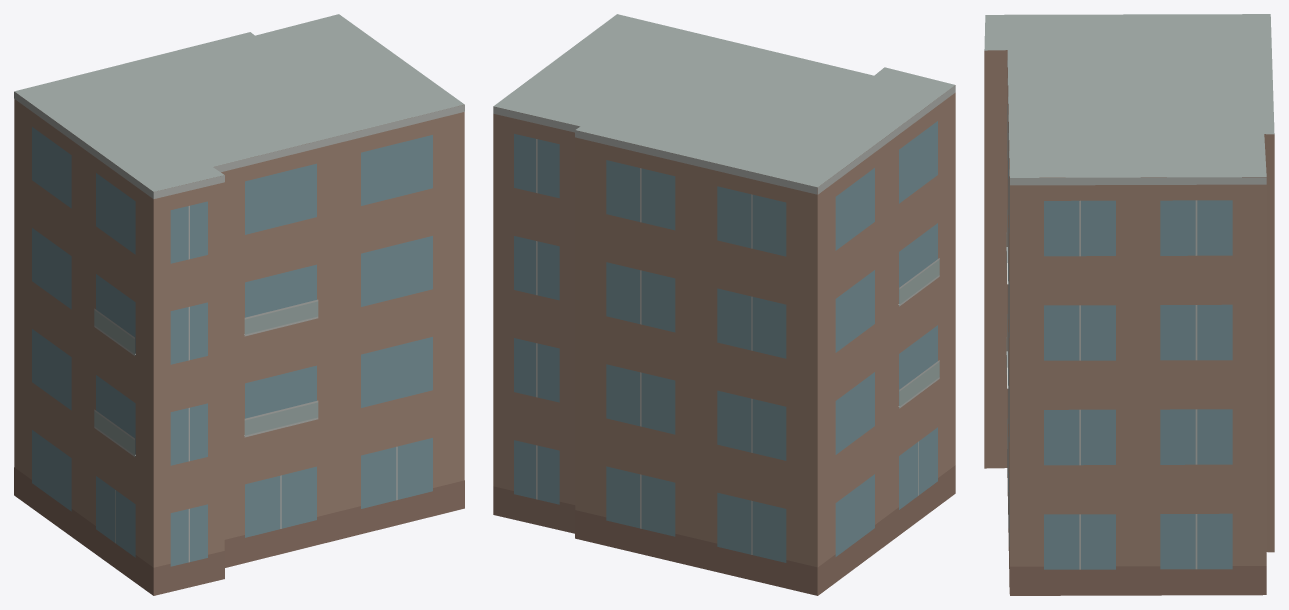
The model's file is survey-upis-32512228.glb.
3 renders of one model, left to right at view 1: azimuth 30°, elevation 25°; view 2: azimuth 150°, elevation 25°; view 3: azimuth 270°, elevation 25°, orthographic. The views are drawn at different scales.
Parts seen in each view (by area): view 1: survey-upis-32512228.tmp; view 2: survey-upis-32512228.tmp; view 3: survey-upis-32512228.tmp.
Boxes of the visible parts, x1,y1,x2,y2 form: survey-upis-32512228.tmp: (14,14,464,595); survey-upis-32512228.tmp: (493,14,955,595); survey-upis-32512228.tmp: (984,14,1274,595).
Bounding box in the file's own units: 11.36 × 13.5 × 8.5.
